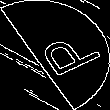P_SW: (17, 26, 93, 84)
